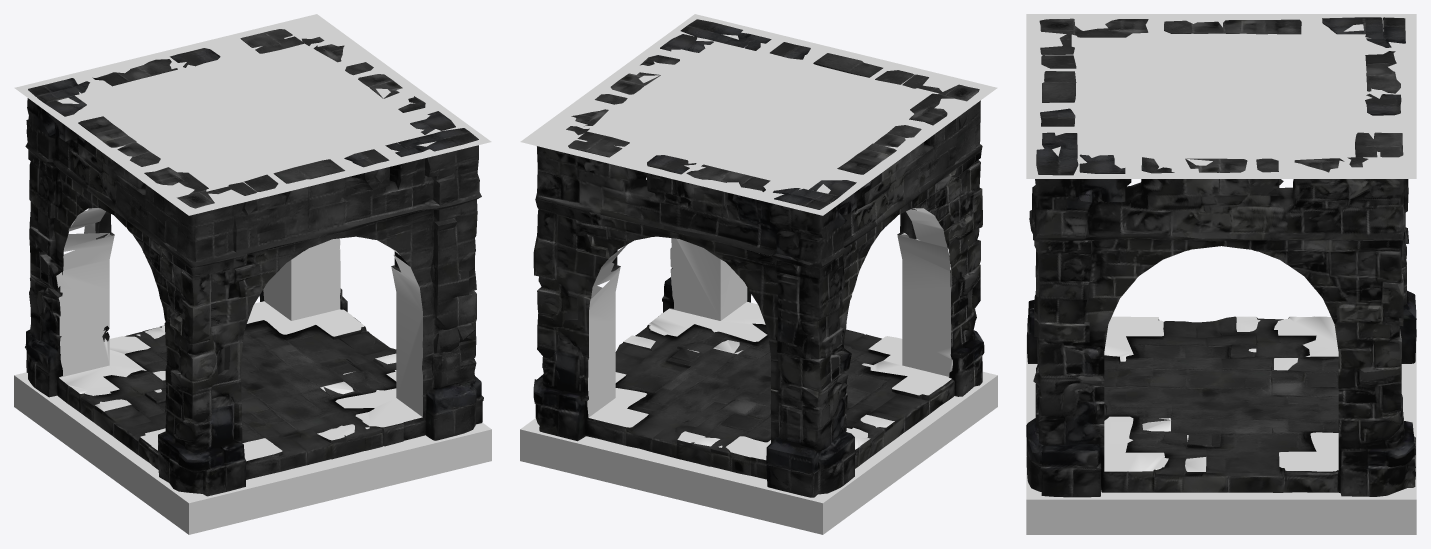
The model's file is module_cross.glb.
3 renders of one model, left to right at view 1: azimuth 30°, elevation 25°; view 2: azimuth 150°, elevation 25°; view 3: azimuth 270°, elevation 25°, orthographic. The views are drawn at different scales.
Visible parts, largest first — view 1: tripo_node_8c5739aa-f84c-4d8b-8e59-f022d221bb8c; view 2: tripo_node_8c5739aa-f84c-4d8b-8e59-f022d221bb8c; view 3: tripo_node_8c5739aa-f84c-4d8b-8e59-f022d221bb8c.
Part boxes in pixels (<box>): tripo_node_8c5739aa-f84c-4d8b-8e59-f022d221bb8c: <box>14,14,491,534</box>; tripo_node_8c5739aa-f84c-4d8b-8e59-f022d221bb8c: <box>520,14,997,534</box>; tripo_node_8c5739aa-f84c-4d8b-8e59-f022d221bb8c: <box>1026,14,1416,534</box>.
Size of the model in its own units: 6 by 6.07 by 6.
Materials: 3 (1 with a texture image).
